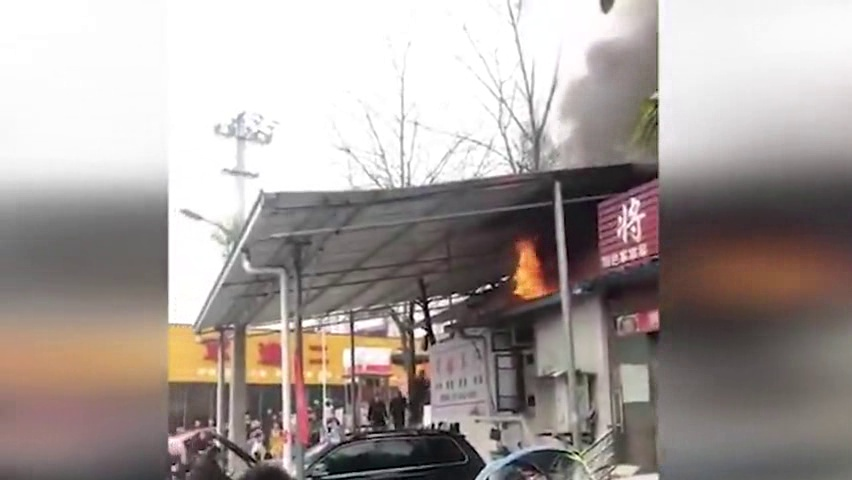fire: (510, 237, 556, 304)
